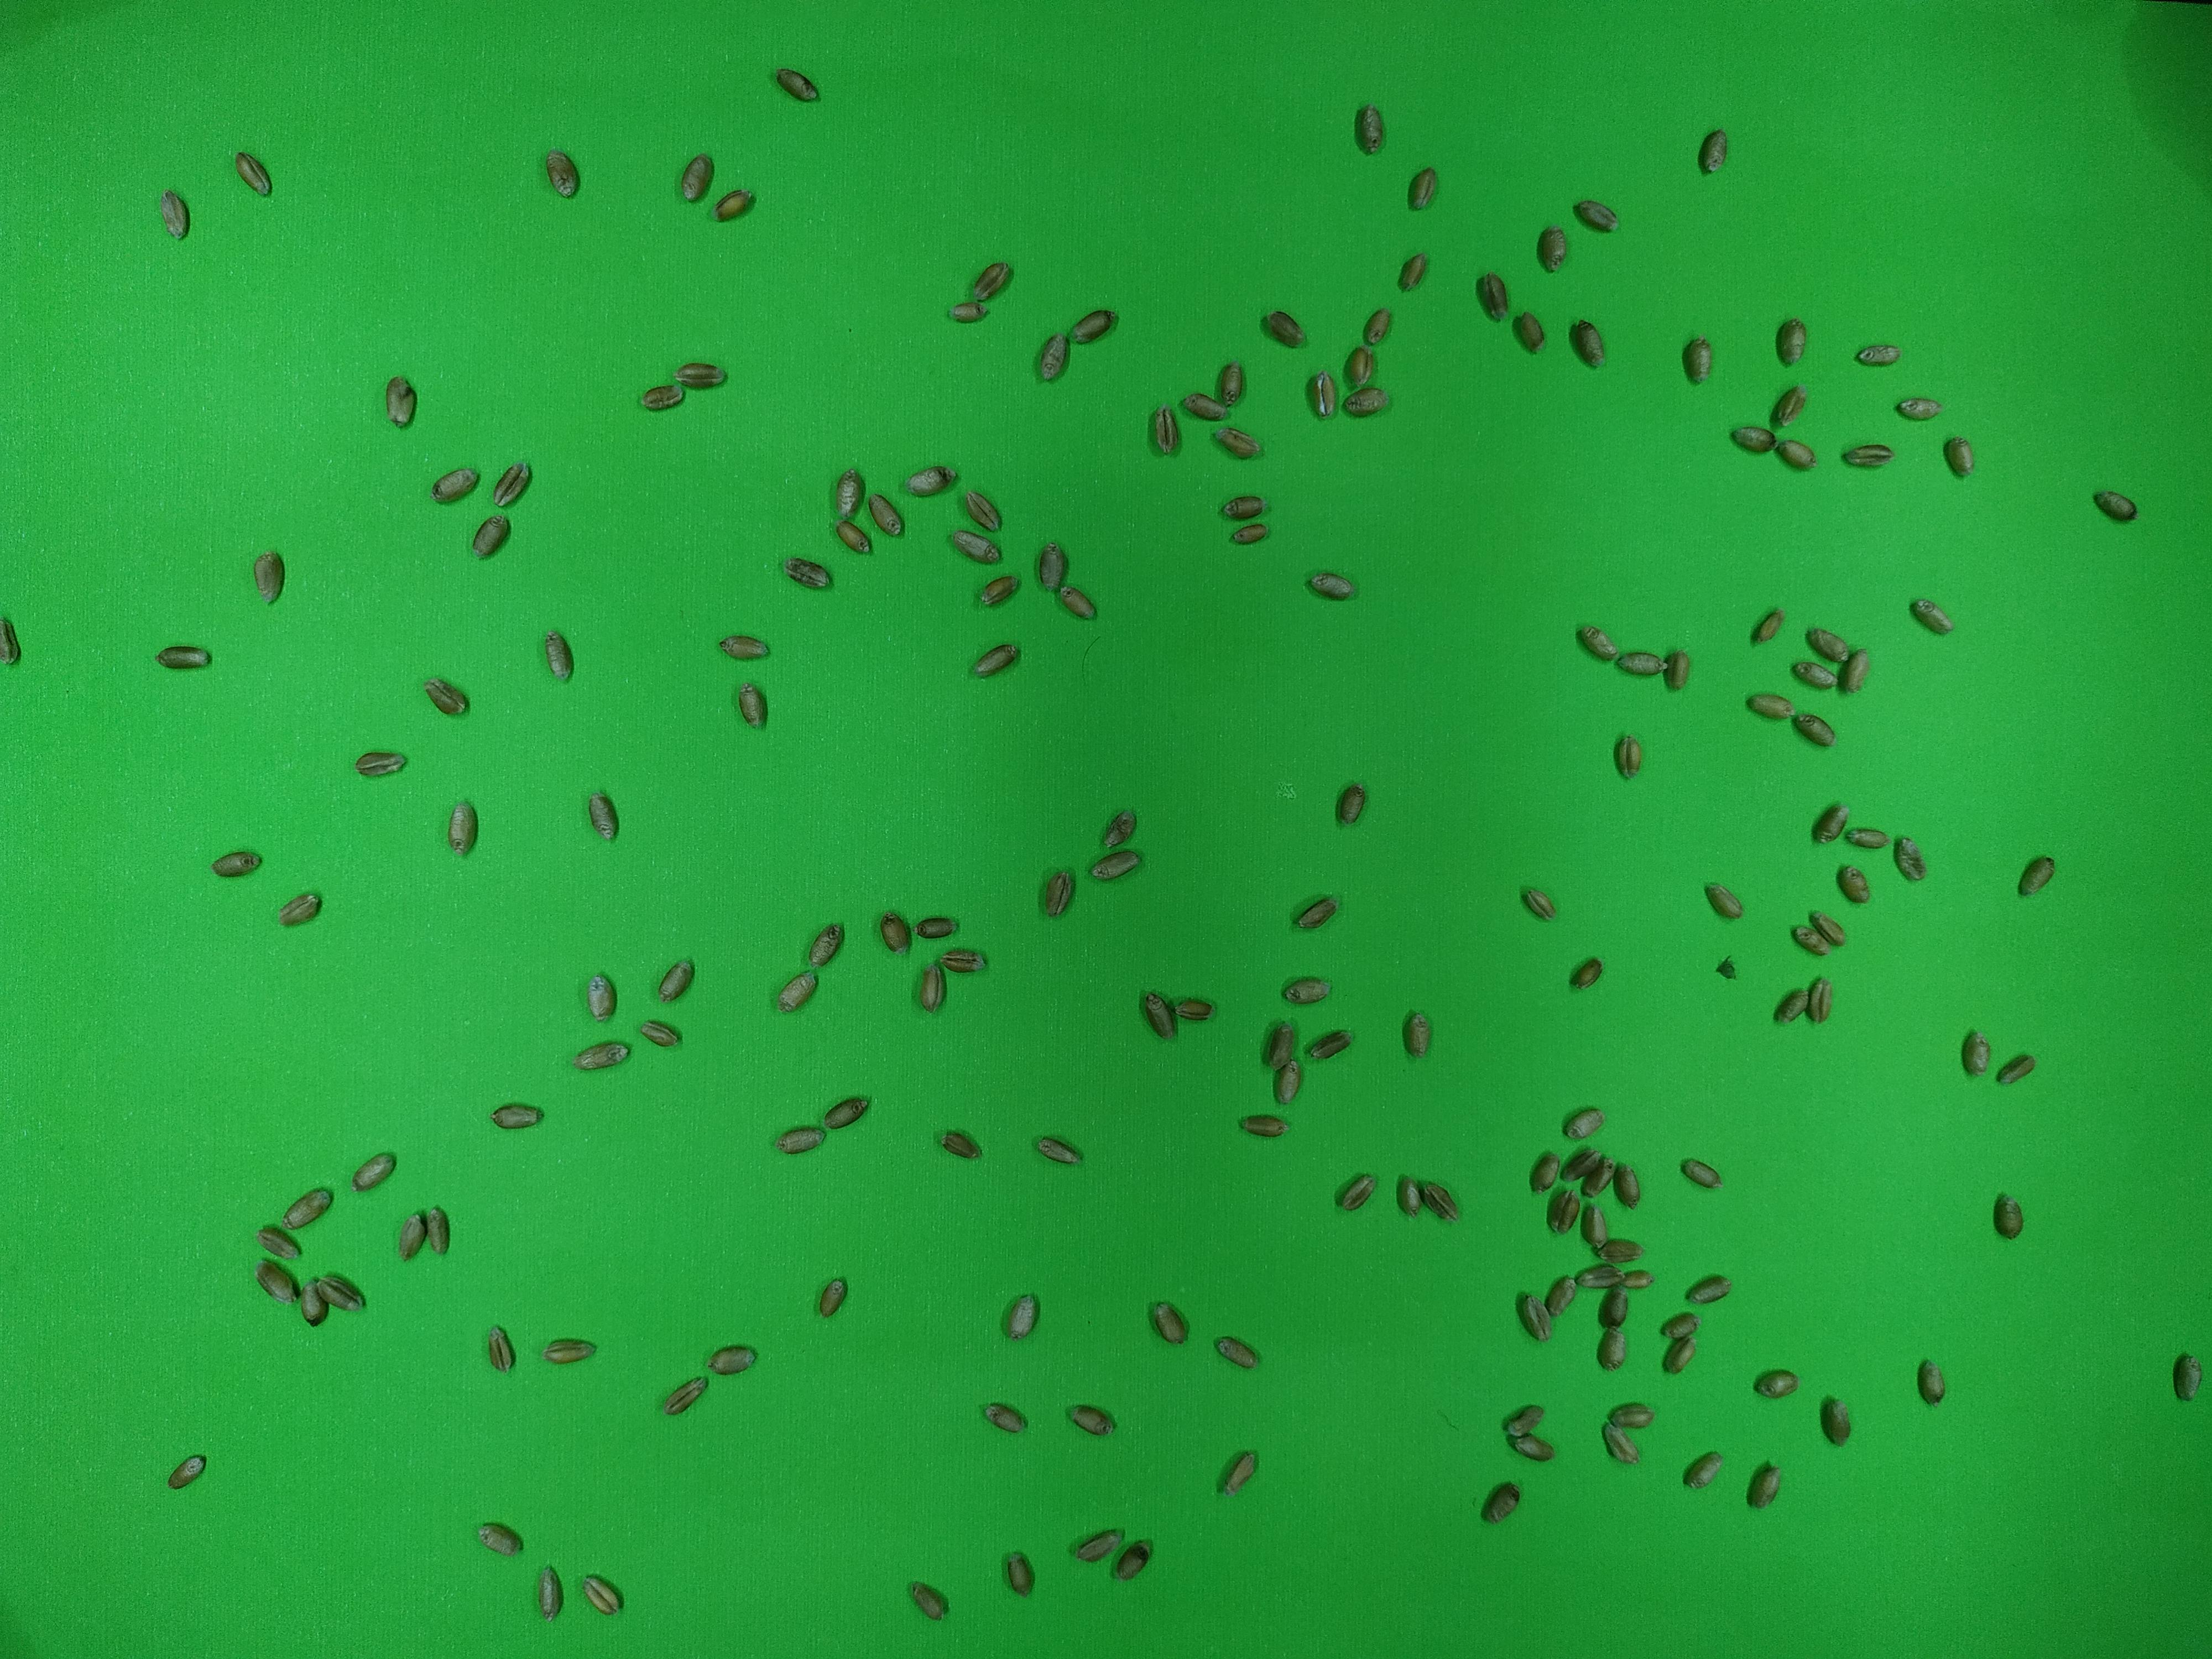bueno: (946, 525, 1012, 568), (1817, 1387, 1858, 1448), (1904, 591, 1956, 638), (1087, 847, 1150, 884), (1566, 317, 1609, 369), (897, 464, 961, 498), (319, 1274, 373, 1314), (298, 1267, 331, 1331), (1698, 124, 1735, 181), (1275, 1049, 1312, 1107), (1303, 369, 1341, 423), (538, 152, 582, 199), (1785, 915, 1832, 958), (1390, 1166, 1428, 1218), (831, 514, 874, 559), (573, 1039, 632, 1072), (256, 1222, 305, 1262), (1036, 871, 1076, 920), (209, 847, 265, 882), (1339, 340, 1378, 390), (583, 789, 622, 840), (1301, 572, 1362, 603), (864, 491, 904, 538), (1137, 988, 1176, 1037), (1332, 781, 1371, 830), (773, 66, 822, 105), (251, 1262, 300, 1300), (1566, 1258, 1625, 1290), (1150, 1298, 1186, 1349), (679, 153, 716, 204), (479, 1516, 523, 1558), (1742, 690, 1794, 725), (1810, 802, 1850, 847), (1801, 974, 1834, 1028), (1176, 390, 1230, 423), (1658, 645, 1695, 694), (1350, 103, 1386, 152), (1000, 1551, 1036, 1600), (1956, 1030, 1993, 1079), (876, 906, 913, 955), (1036, 331, 1071, 382), (542, 631, 577, 681), (253, 549, 287, 599), (448, 796, 477, 856), (587, 967, 617, 1026), (1599, 1427, 1641, 1469), (385, 373, 416, 429), (1658, 1333, 1700, 1375), (286, 1188, 329, 1229), (732, 685, 770, 730), (1294, 892, 1339, 931), (1474, 268, 1507, 321), (1035, 542, 1068, 594), (813, 1272, 850, 1319), (423, 680, 470, 716), (1773, 436, 1820, 472), (719, 629, 766, 666), (1545, 1188, 1581, 1236), (1341, 385, 1388, 422), (1771, 981, 1808, 1028), (491, 1100, 540, 1134), (153, 643, 207, 674), (1507, 310, 1547, 352), (582, 1575, 622, 1617), (916, 965, 949, 1016), (1911, 1363, 1949, 1406), (1688, 1270, 1731, 1309), (1221, 1450, 1259, 1493), (1336, 1171, 1374, 1215), (1397, 1014, 1433, 1060), (1484, 1481, 1521, 1527), (1677, 340, 1714, 385), (1801, 631, 1853, 662), (1989, 1194, 2024, 1241), (1609, 1399, 1656, 1434), (808, 924, 843, 971), (1066, 1403, 1113, 1438), (1263, 1023, 1296, 1072), (982, 1403, 1031, 1436), (1214, 359, 1247, 408), (637, 382, 686, 415), (961, 493, 1001, 533), (2017, 856, 2059, 894), (1527, 1152, 1566, 1194), (1073, 307, 1115, 345), (937, 946, 991, 976), (1843, 819, 1897, 849), (1146, 408, 1183, 451), (1561, 1105, 1604, 1141), (787, 556, 831, 592), (474, 514, 510, 558), (535, 1570, 566, 1621), (1836, 652, 1871, 697), (350, 1155, 395, 1190), (1543, 1276, 1578, 1321), (975, 641, 1021, 676), (914, 910, 960, 945), (1404, 166, 1439, 211), (482, 1326, 517, 1371), (707, 1342, 752, 1377), (1512, 1432, 1559, 1466), (1611, 1164, 1644, 1211), (831, 467, 864, 514), (1775, 319, 1808, 366), (1282, 974, 1329, 1007), (1792, 713, 1839, 746), (1240, 1110, 1287, 1143), (543, 1337, 596, 1366), (1421, 1182, 1460, 1222), (1101, 810, 1139, 850), (1662, 1312, 1702, 1351), (970, 260, 1010, 298), (1263, 308, 1301, 349), (1747, 610, 1789, 647), (1000, 1300, 1036, 1342), (639, 1016, 681, 1053), (1608, 735, 1644, 777), (1770, 385, 1806, 427), (1573, 627, 1622, 659), (1393, 251, 1428, 295), (277, 892, 320, 927), (777, 1124, 820, 1159), (1359, 303, 1393, 347), (1534, 227, 1568, 272), (1730, 425, 1780, 455), (162, 190, 192, 240), (1075, 1530, 1122, 1561), (495, 464, 526, 511), (1683, 1452, 1721, 1490), (909, 1582, 948, 1621), (1703, 884, 1742, 922), (664, 1378, 702, 1417), (777, 974, 815, 1012), (1745, 1469, 1782, 1509), (1059, 582, 1096, 622), (1566, 1145, 1606, 1182), (714, 186, 754, 223), (1503, 1403, 1545, 1438), (1217, 427, 1259, 462), (434, 467, 475, 502), (1226, 521, 1278, 549), (660, 958, 690, 1007), (1792, 660, 1836, 694), (1808, 908, 1841, 951), (164, 1457, 207, 1490), (1575, 199, 1618, 232), (826, 1096, 869, 1129), (678, 361, 723, 392), (1613, 652, 1667, 678), (1892, 396, 1942, 423), (1568, 955, 1606, 992), (1937, 437, 1975, 474), (1886, 842, 1923, 880), (977, 573, 1017, 608), (1994, 1054, 2036, 1087), (1599, 1291, 1632, 1333), (420, 1209, 453, 1251), (237, 153, 270, 195), (1216, 1337, 1258, 1370), (1834, 864, 1867, 906), (1033, 1134, 1076, 1166), (1515, 890, 1559, 922), (937, 1129, 981, 1161), (1312, 1028, 1350, 1063), (1592, 1337, 1632, 1370), (1855, 343, 1902, 371), (1580, 1209, 1611, 1251), (2094, 493, 2137, 523), (1219, 493, 1263, 523), (1679, 1159, 1723, 1188), (1843, 441, 1886, 471), (1172, 993, 1214, 1023), (1613, 1265, 1655, 1295), (1118, 1537, 1148, 1579), (1592, 1239, 1642, 1263), (949, 295, 986, 328), (1521, 1303, 1554, 1340), (1756, 1368, 1796, 1398), (1587, 1155, 1616, 1195), (397, 1215, 423, 1260), (350, 753, 402, 775)
impureza: (1712, 948, 1745, 986)
